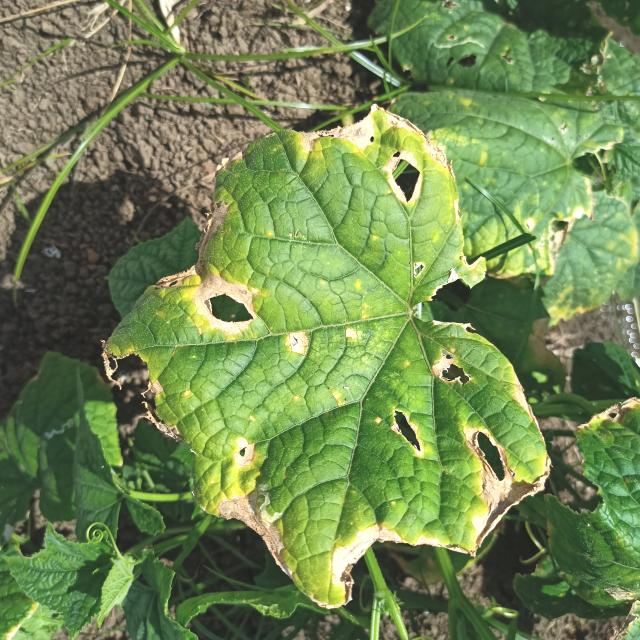disease_cucumber: (104, 100, 554, 608)
